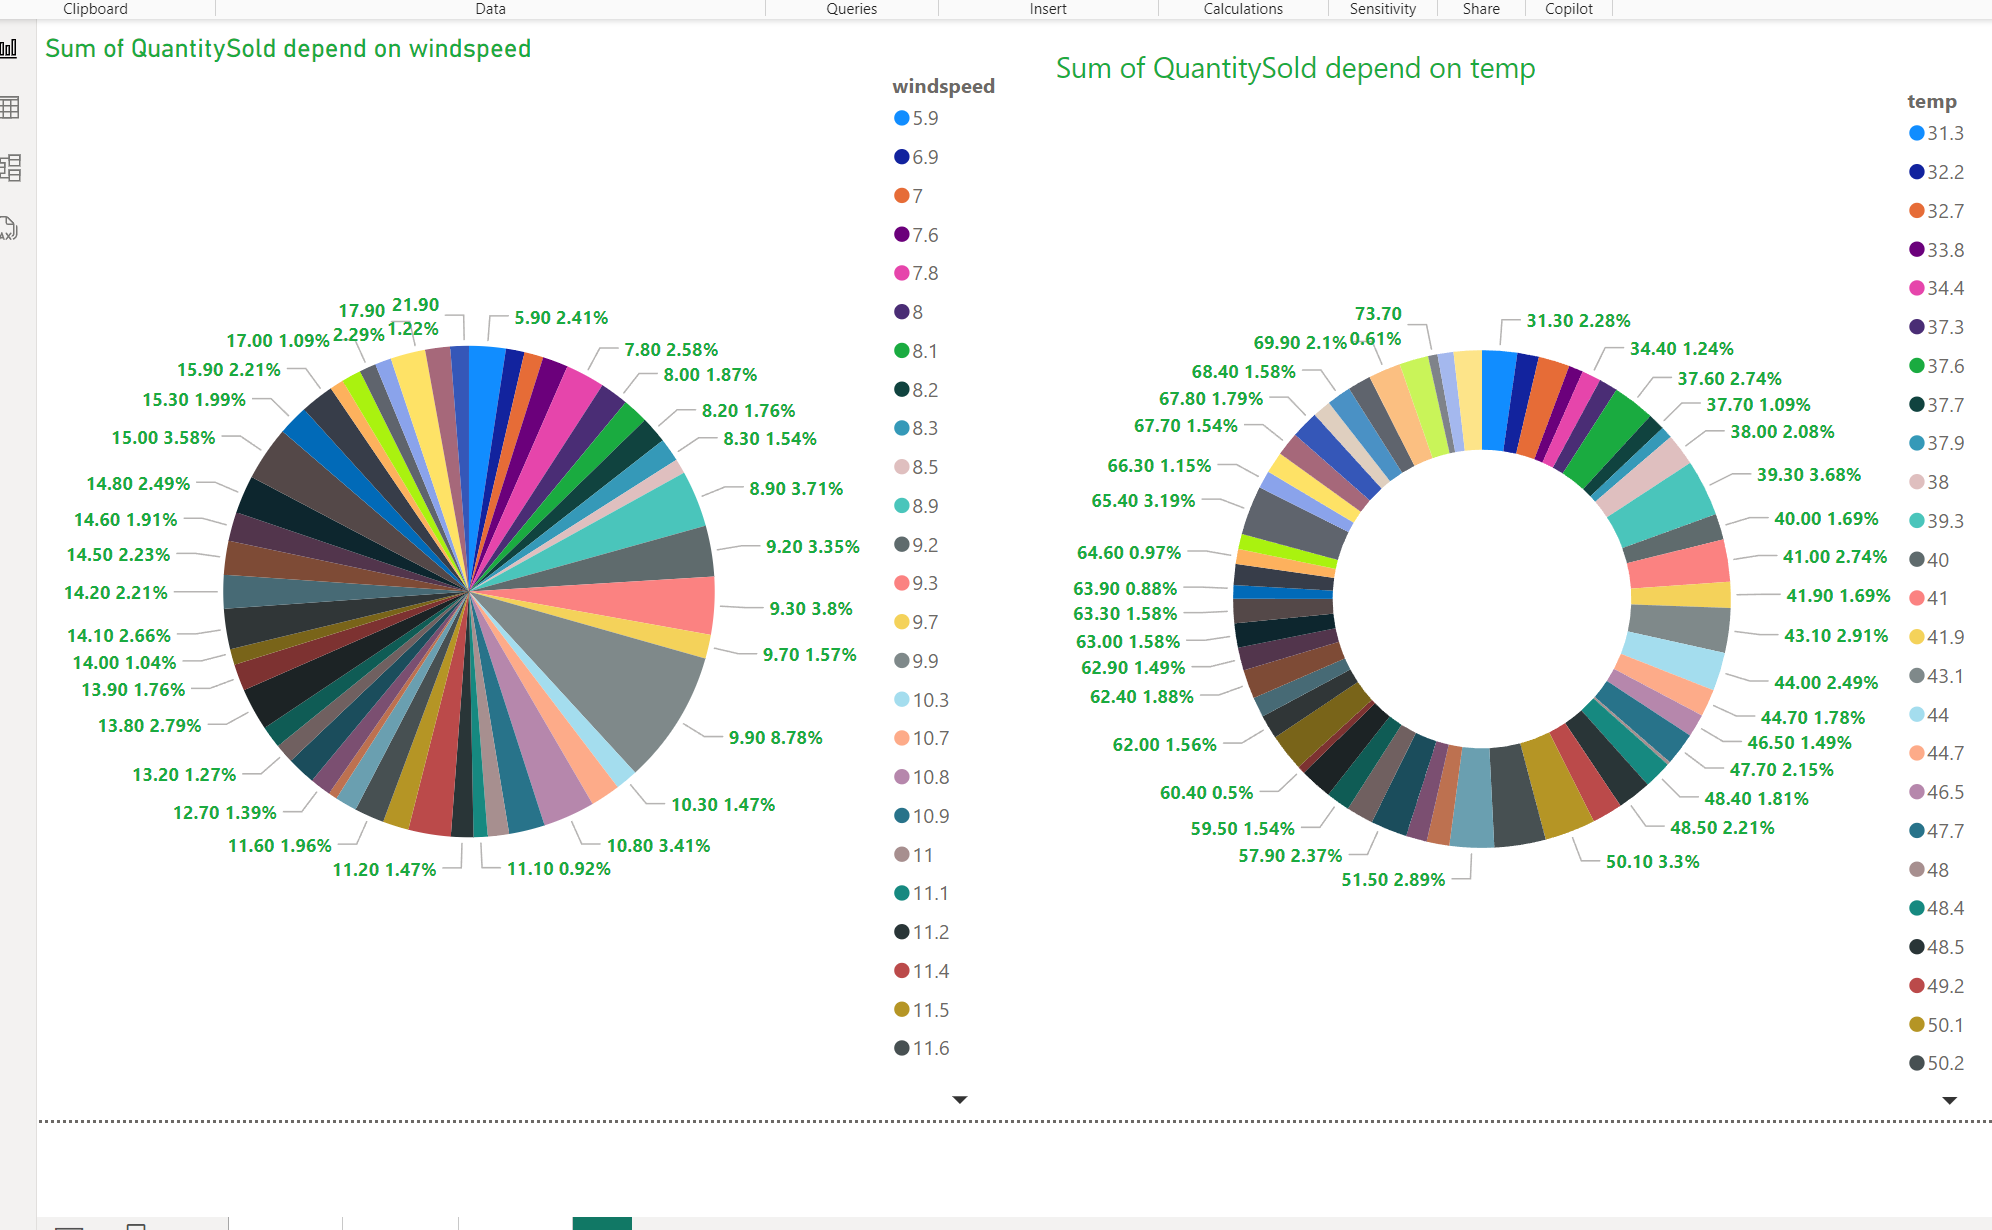

The page's visual inventory and layout, read from the dashboard file:
{"tool":"powerbi","page":{"name":"Page 2","canvas":[1280,720],"ordinal":1},"visuals":[{"type":"pieChart","title":"Sum of QuantitySold depend on windspeed","fields":{"Y":["Sum(Sales.QuantitySold)"],"Category":["2024.windspeed","2024.date.Variation.Date Hierarchy.Month"]},"box":[0,8.8,650.1,710.9],"z":0},{"type":"donutChart","title":"Sum of QuantitySold depend on temp","fields":{"Category":["2024.temp","2024.date.Variation.Date Hierarchy.Month"],"Y":["Sum(Sales.QuantitySold)"]},"box":[660.9,18.6,619.7,701.1],"z":1000}]}

Visuals, with their boxes on the page's 1280x720 design canvas (x1, y1, x2, y2). These are canvas units, not pixel positions in the 1992x1230 screenshot, which may show the page scaled, cropped or inside an application window:
"Sum of QuantitySold depend on windspeed" pieChart: x1=0, y1=9, x2=650, y2=720
"Sum of QuantitySold depend on temp" donutChart: x1=661, y1=19, x2=1281, y2=720
